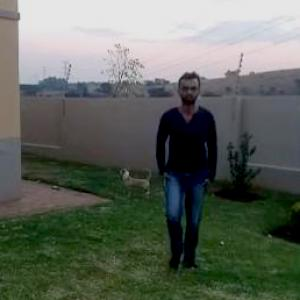follow: (153, 74, 213, 254)
